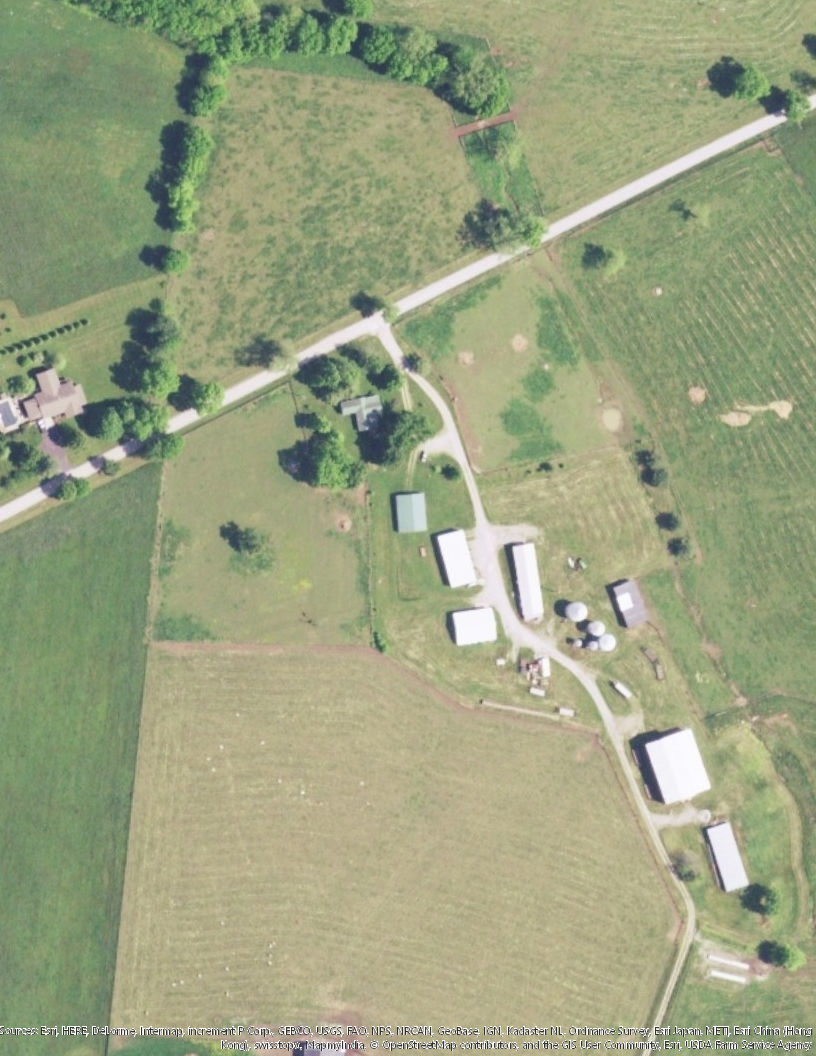cafo: (640, 721, 715, 806), (505, 539, 554, 625), (702, 818, 753, 896), (432, 523, 481, 590), (382, 487, 431, 534), (446, 606, 500, 645)
